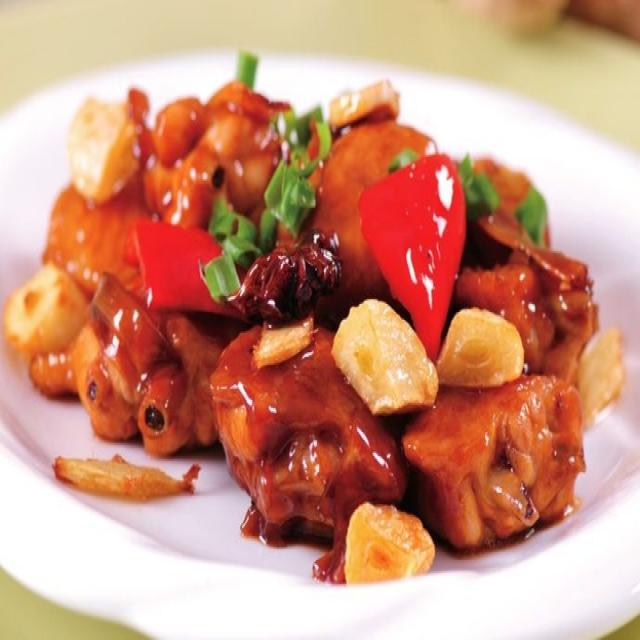鸡肉料理 含炸鸡: (20, 41, 618, 588)
